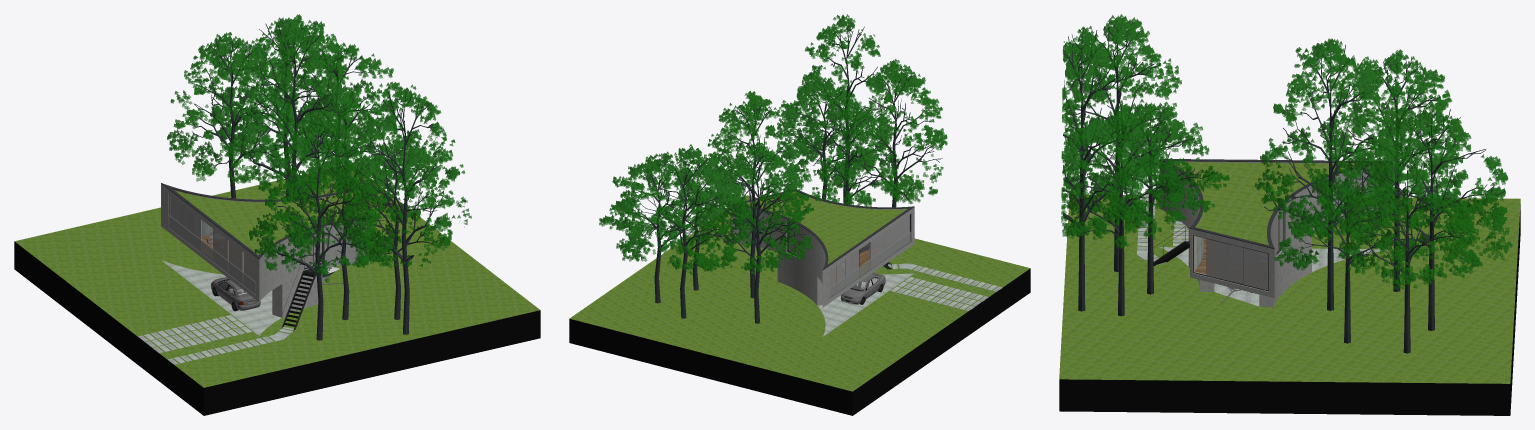
The model's file is demo_house.fbx.
The picture shows the model from 3 angles, left to right: view 1: azimuth 30°, elevation 25°; view 2: azimuth 150°, elevation 25°; view 3: azimuth 270°, elevation 25°; orthographic projection. The views are drawn at different scales.
Parts seen in each view (by area): view 1: Födém, Tárgy, Fal, Ablak; view 2: Födém, Tárgy, Fal, Ablak; view 3: Födém, Tárgy, Fal, Ablak.
Boxes of the visible parts, left/top/right/bottom form: Födém: left=14, top=170, right=540, bottom=415; Tárgy: left=167, top=14, right=471, bottom=340; Fal: left=161, top=183, right=369, bottom=317; Ablak: left=169, top=195, right=323, bottom=293; Födém: left=569, top=191, right=1030, bottom=415; Tárgy: left=599, top=14, right=947, bottom=323; Fal: left=732, top=189, right=914, bottom=307; Ablak: left=787, top=214, right=910, bottom=297; Födém: left=1059, top=162, right=1520, bottom=415; Tárgy: left=1061, top=14, right=1512, bottom=353; Fal: left=1159, top=159, right=1392, bottom=307; Ablak: left=1193, top=172, right=1375, bottom=291.
Bounding box in the file's own units: 25.35 × 19.53 × 26.08.
42 materials, 12 textured.
